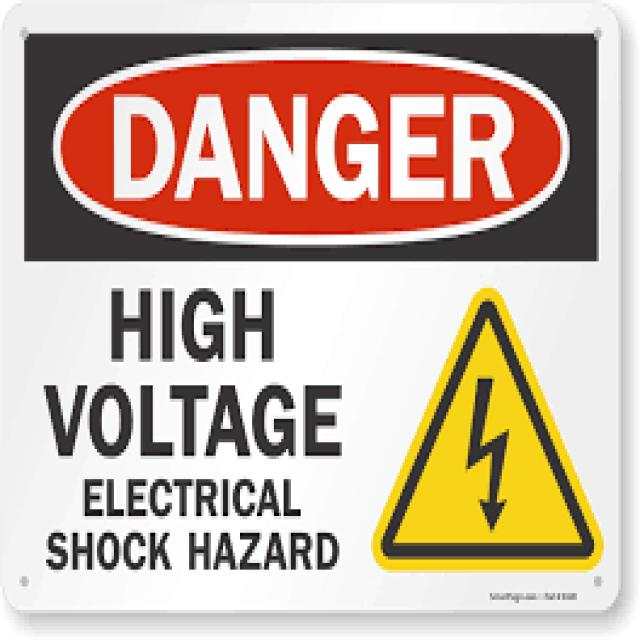electric-shock: (350, 287, 602, 570)
